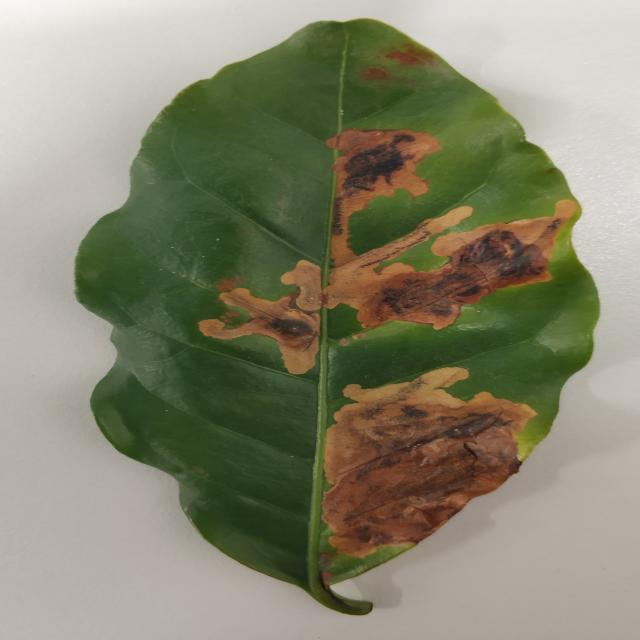Plaga-Minador: (72, 18, 602, 617)
